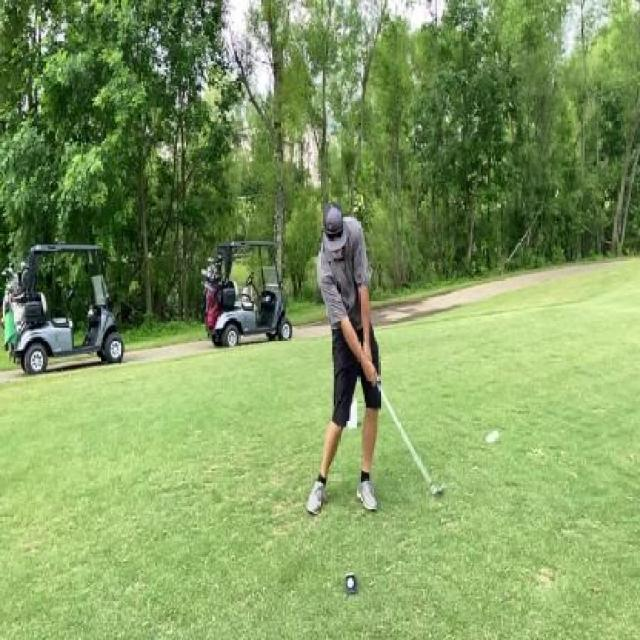club head: (429, 481, 445, 501)
